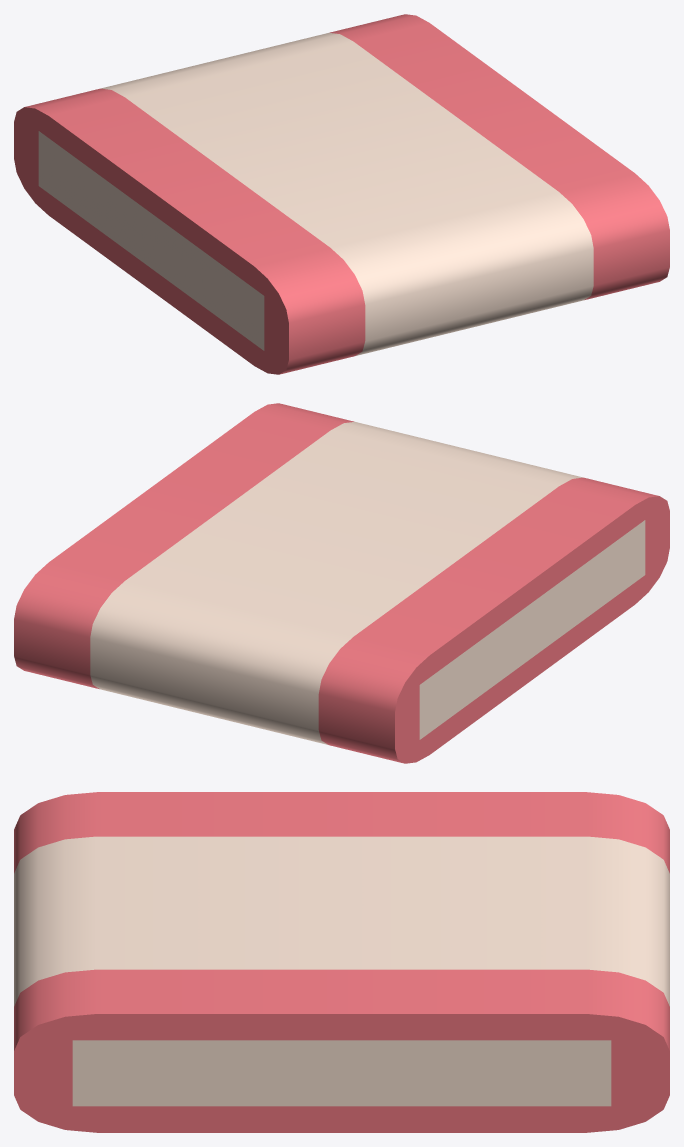
The model's file is Props_Conveyor_Pink_01.fbx.
The picture shows the model from 3 angles, top to bottom: view 1: azimuth 30°, elevation 25°; view 2: azimuth 150°, elevation 25°; view 3: azimuth 270°, elevation 25°; orthographic projection. The views are drawn at different scales.
Parts seen in each view (by area): view 1: Props_Conveyor_Pink_01; view 2: Props_Conveyor_Pink_01; view 3: Props_Conveyor_Pink_01.
Boxes of the visible parts, box(x1,y1,x2,y2) form: Props_Conveyor_Pink_01: box(14, 14, 669, 374); Props_Conveyor_Pink_01: box(14, 403, 669, 763); Props_Conveyor_Pink_01: box(14, 792, 669, 1132).
Bounding box in the file's own units: 80 × 20 × 100.
